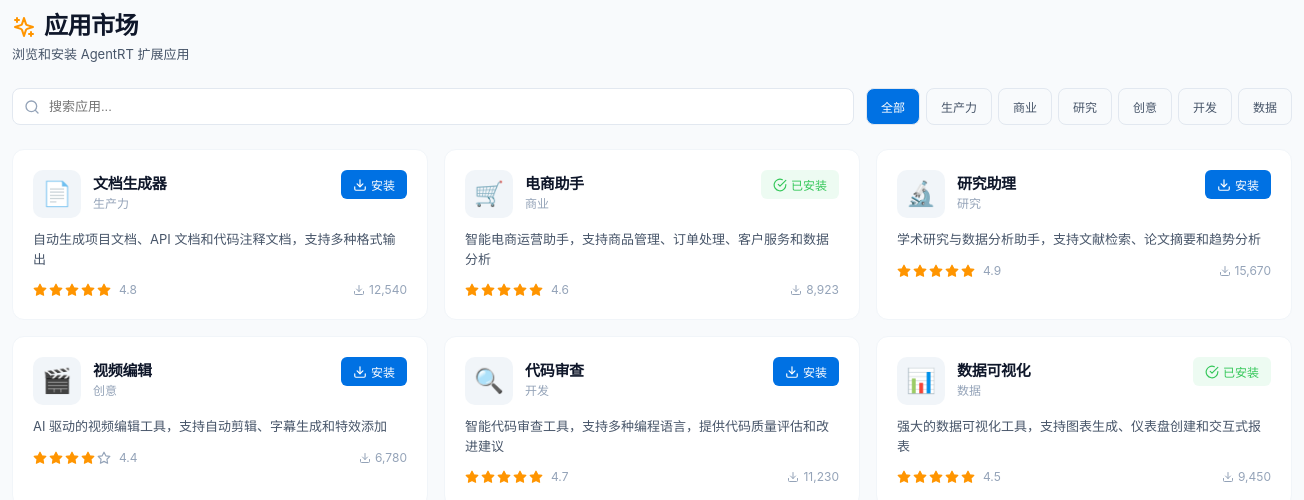
Test: OpenLab › filters apps by search text
Type "文档" into the search field with placeholder "搜索应用..." at (433, 107), box [12,88,854,125]
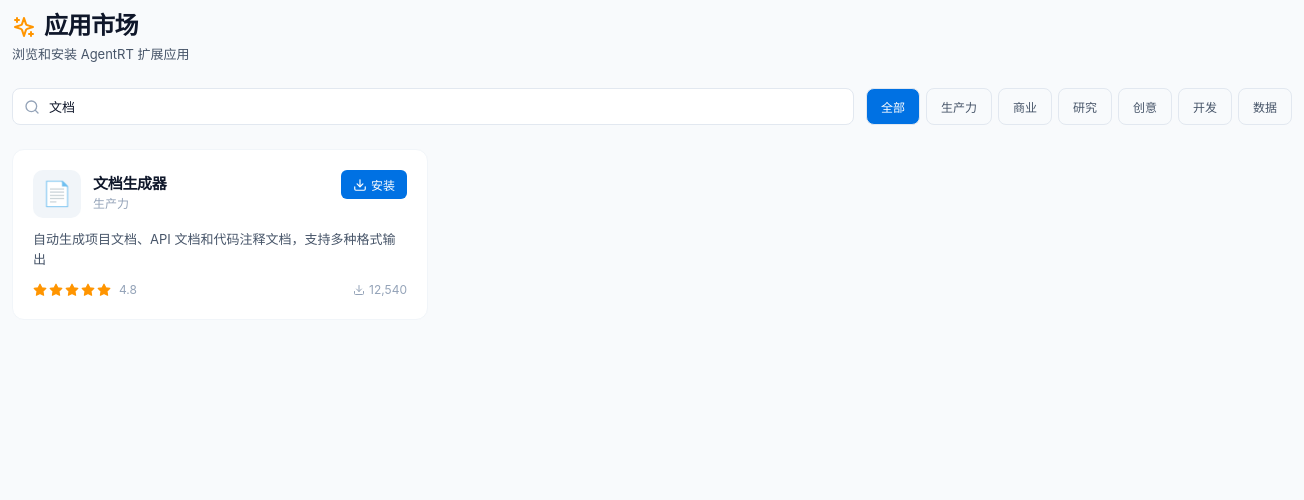
Expected: the heading "文档生成器" is shown, [93,175,166,193]
Expected: the heading "电商助手" is gone
